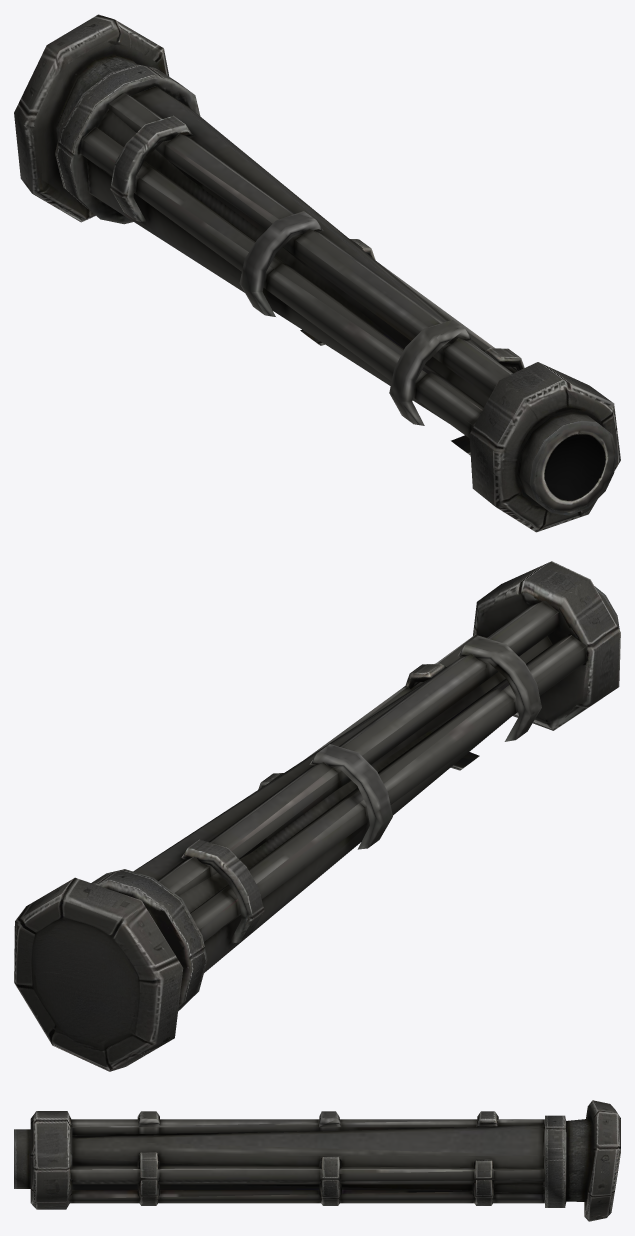
File: cold-iron-v2-weapon-b-rail-lance.glb
The picture shows the model from 3 angles, top to bottom: view 1: azimuth 30°, elevation 25°; view 2: azimuth 150°, elevation 25°; view 3: azimuth 270°, elevation 25°; orthographic projection. The views are drawn at different scales.
Parts seen in each view (by area): view 1: tripo_node_fb265246-d9c4-4009-ab58-d0262dc457ff; view 2: tripo_node_fb265246-d9c4-4009-ab58-d0262dc457ff; view 3: tripo_node_fb265246-d9c4-4009-ab58-d0262dc457ff.
Part boxes in pixels (box(x1,y1,x2,y2)): tripo_node_fb265246-d9c4-4009-ab58-d0262dc457ff: box(14, 14, 620, 532); tripo_node_fb265246-d9c4-4009-ab58-d0262dc457ff: box(14, 561, 620, 1071); tripo_node_fb265246-d9c4-4009-ab58-d0262dc457ff: box(14, 1100, 620, 1221).
Bounding box in the file's own units: 0.1816 × 0.2051 × 0.998.
1 material, 1 textured.
